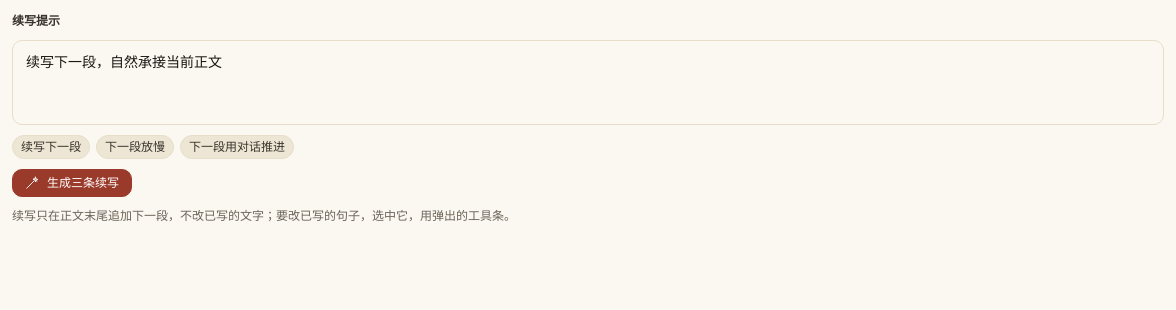
写作台 · 续写 › 只丢了一版：两条候选照给，上方说另有一版照搬了参考书、已丢掉
Click the button "生成三条续写" at (72, 183), box [12,169,132,197]
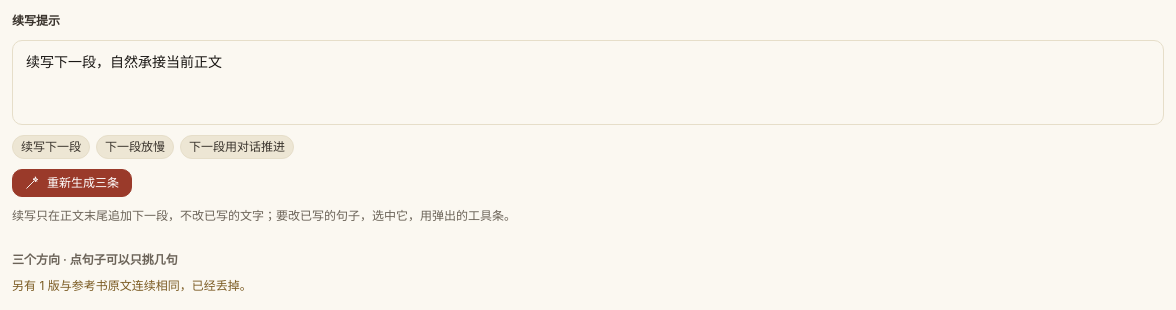
Expected: the text with test id "wr-cand-copy-note" reads "另有 1 版与参考书原文连续相同，已经丢掉。", [12,278,252,293]
